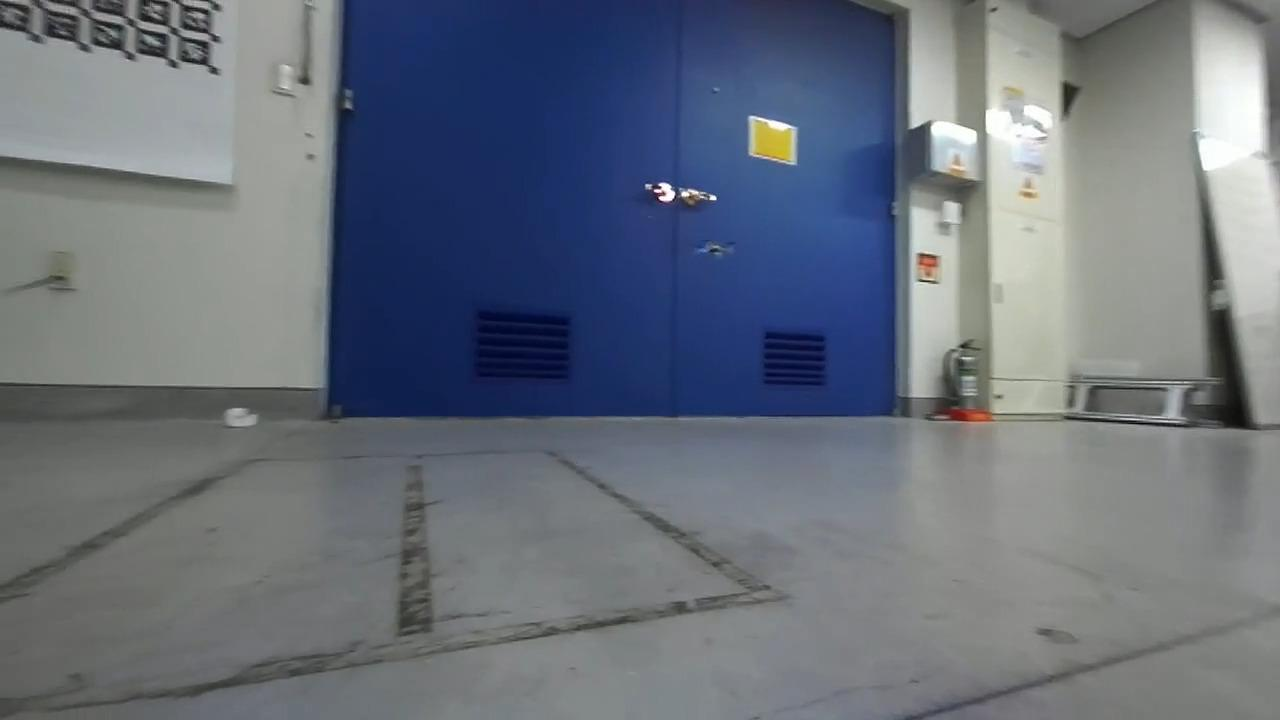crazyflie: (694, 238, 737, 261)
